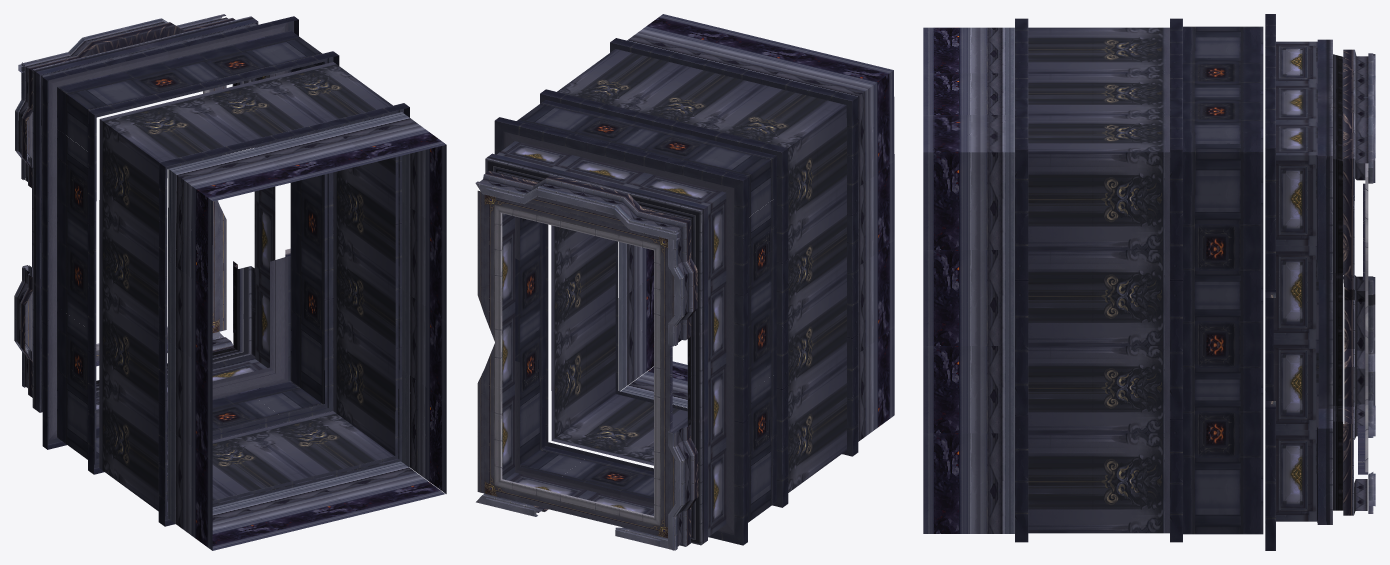
Rendered from Item_mgz_1005_pt_02.FBX.
3 renders of one model, left to right at view 1: azimuth 30°, elevation 25°; view 2: azimuth 150°, elevation 25°; view 3: azimuth 270°, elevation 25°, orthographic. The views are drawn at different scales.
Parts seen in each view (by area): view 1: Item_mgz_1005_pt_02; view 2: Item_mgz_1005_pt_02; view 3: Item_mgz_1005_pt_02.
Boxes of the visible parts, x1,y1,x2,y2 form: Item_mgz_1005_pt_02: [14, 14, 446, 550]; Item_mgz_1005_pt_02: [475, 14, 894, 550]; Item_mgz_1005_pt_02: [923, 14, 1375, 550].
Bounding box in the file's own units: 2875 × 4035 × 4104.
1 material, 1 textured.
